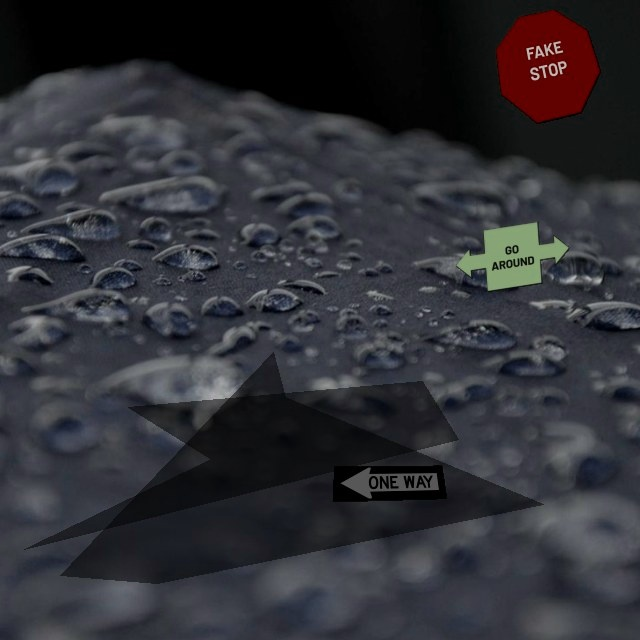FAKE_STOP: (495, 9, 601, 124)
GO_AROUND: (455, 221, 570, 292)
ONE_WAY_ left: (332, 465, 447, 502)
